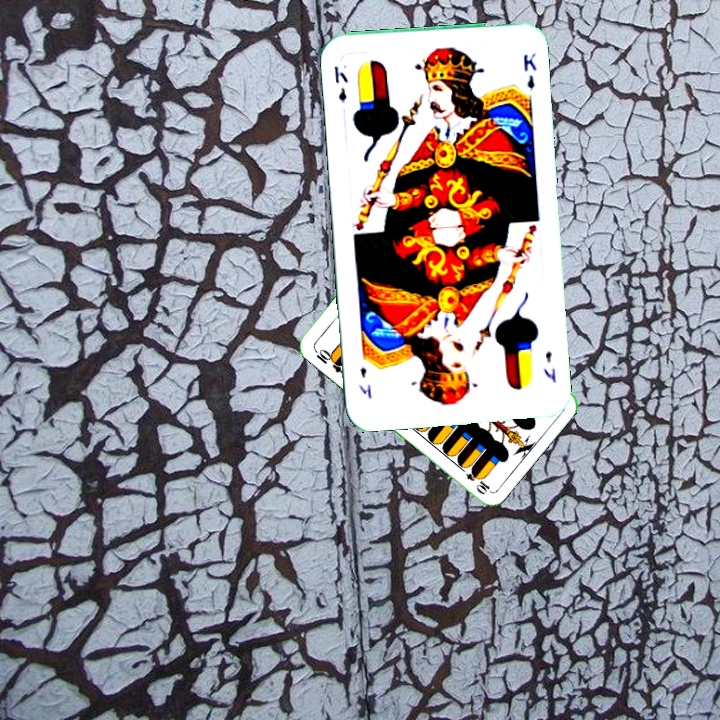E10: (310, 345, 347, 375)
EK: (330, 62, 351, 104), (539, 347, 558, 386)
